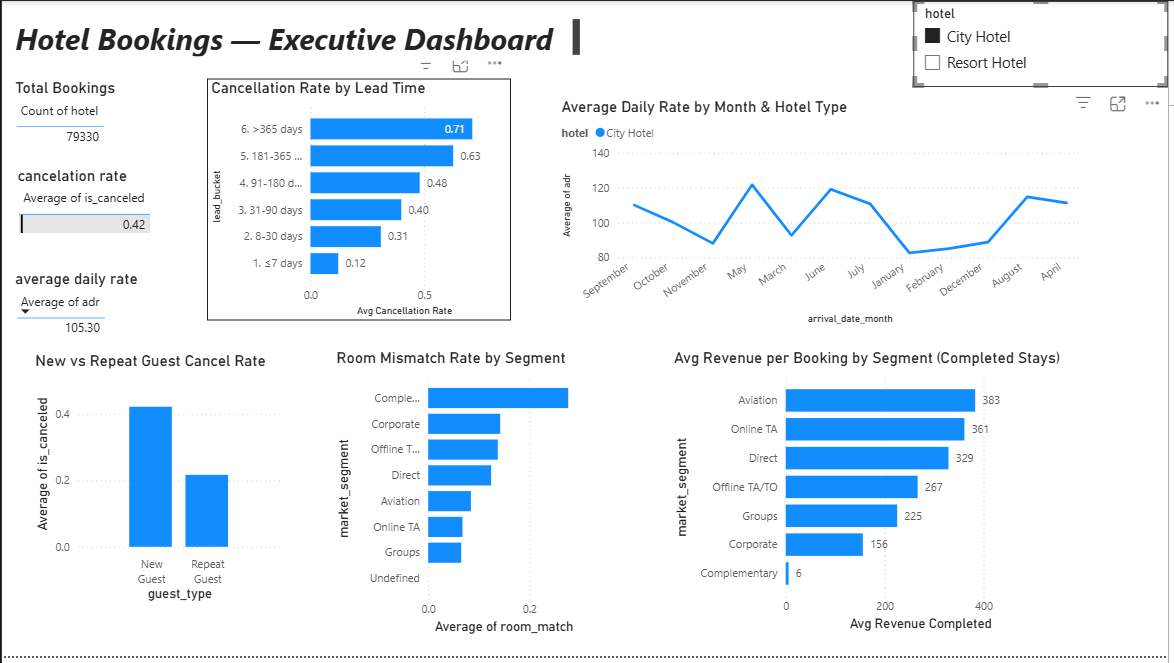

Layout of this report page (visuals, bound fields, positions):
{"tool":"powerbi","page":{"name":"Page 1","canvas":[1280,720],"ordinal":0},"visuals":[{"type":"clusteredBarChart","title":"Cancellation Rate by Lead Time","fields":{"Category":["hotel_bookings.lead_bucket"],"Y":["Avg(hotel_bookings.is_canceled)"]},"box":[225,85.1,333.4,266.2],"z":0},{"type":"clusteredBarChart","title":"Avg Revenue per Booking by Segment (Completed Stays)","fields":{"Y":["hotel_bookings.Avg Revenue Completed"],"Category":["hotel_bookings.market_segment"]},"box":[732.8,381.5,439.1,315.6],"z":1000},{"type":"clusteredColumnChart","title":"New vs Repeat Guest Cancel Rate ","fields":{"Category":["hotel_bookings.guest_type"],"Y":["Avg(hotel_bookings.is_canceled)"]},"box":[31.6,384.2,279.9,279.9],"z":2000},{"type":"lineChart","title":"Average Daily Rate by Month & Hotel Type","fields":{"Category":["hotel_bookings.arrival_date_month"],"Y":["Avg(hotel_bookings.adr)"],"Series":["hotel_bookings.hotel"]},"box":[609.3,105.7,581.8,253.9],"z":3000},{"type":"clusteredBarChart","title":"Room Mismatch Rate by Segment","fields":{"Y":["Avg(hotel_bookings.room_match)"],"Category":["hotel_bookings.market_segment"]},"box":[362.3,381.5,285.4,318.4],"z":4000},{"type":"tableEx","title":"cancelation rate","fields":{"Values":["Avg(hotel_bookings.is_canceled)"]},"box":[12.3,181.1,190.7,89.2],"z":5000},{"type":"tableEx","title":"average daily rate","fields":{"Values":["Avg(hotel_bookings.adr)"]},"box":[9.6,295,161.9,89.2],"z":6000},{"type":"tableEx","title":"Total Bookings","fields":{"Values":["hotel_bookings.hotel"]},"box":[9.6,85.1,142.7,89.2],"z":6001},{"type":"textbox","box":[9.6,15.1,629.8,50.8],"z":6002},{"type":"slicer","fields":{"Values":["hotel_bookings.hotel"]},"box":[1000.3,0,279.9,94.7],"z":6003}]}

Visuals, with their boxes in screenshot pixels (x1, y1, x2, y2), scaled from the page's 1280x720 canvas onto the 1174x663 screenshot:
"Cancellation Rate by Lead Time" clusteredBarChart: (206, 78, 512, 323)
"Avg Revenue per Booking by Segment (Completed Stays)" clusteredBarChart: (672, 351, 1075, 642)
"New vs Repeat Guest Cancel Rate " clusteredColumnChart: (29, 354, 286, 612)
"Average Daily Rate by Month & Hotel Type" lineChart: (559, 97, 1092, 331)
"Room Mismatch Rate by Segment" clusteredBarChart: (332, 351, 594, 644)
"cancelation rate" tableEx: (11, 167, 186, 249)
"average daily rate" tableEx: (9, 272, 157, 354)
"Total Bookings" tableEx: (9, 78, 140, 161)
textbox: (9, 14, 586, 61)
slicer - hotel_bookings.hotel: (917, 0, 1173, 87)
